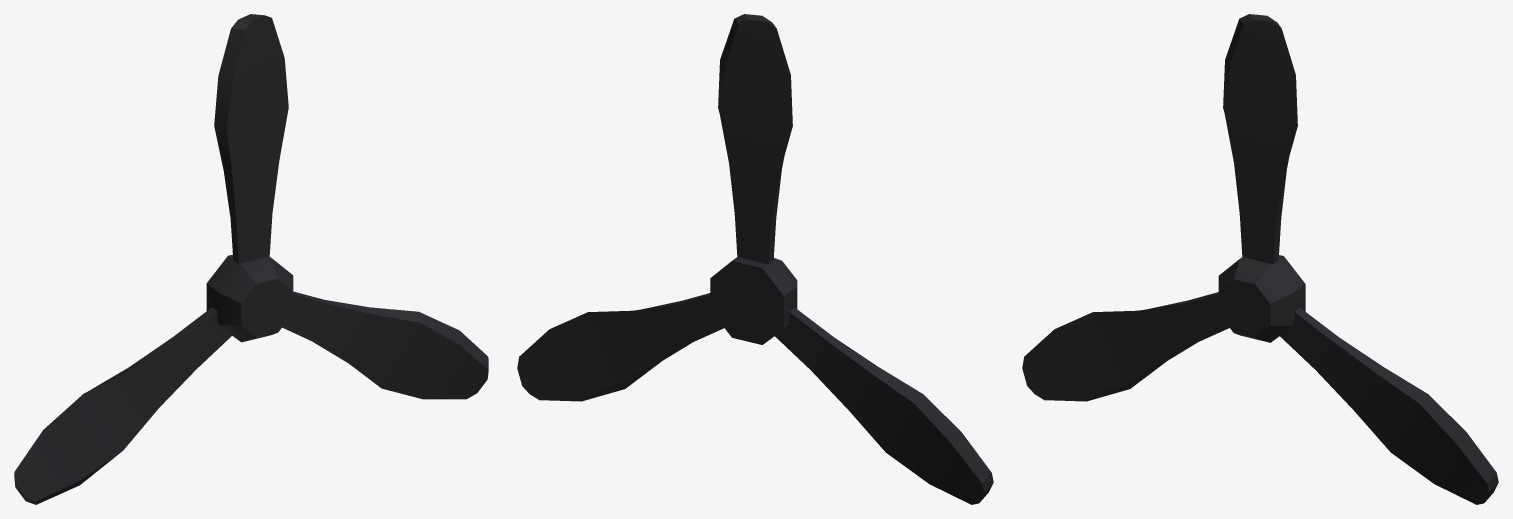
File: SM_Prop_Fan_01_Propeller.fbx
3 renders of one model, left to right at view 1: azimuth 30°, elevation 25°; view 2: azimuth 150°, elevation 25°; view 3: azimuth 330°, elevation 25°, orthographic.
Visible parts, largest first — view 1: SM_Prop_Fan_01_Propeller; view 2: SM_Prop_Fan_01_Propeller; view 3: SM_Prop_Fan_01_Propeller.
Boxes of the visible parts, x1,y1,x2,y2 form: SM_Prop_Fan_01_Propeller: [14, 14, 488, 504]; SM_Prop_Fan_01_Propeller: [517, 14, 993, 504]; SM_Prop_Fan_01_Propeller: [1022, 14, 1498, 504].
Bounding box in the file's own units: 103 × 90.38 × 9.17.
